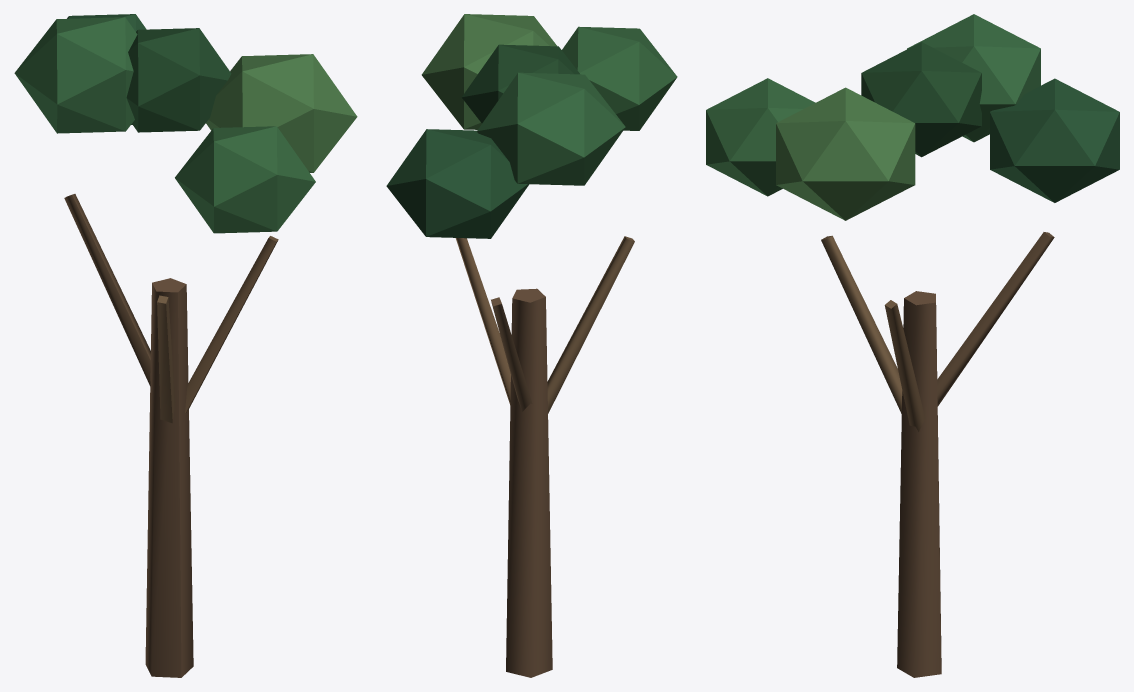
Rendered from broadleaf-round.far.glb.
The picture shows the model from 3 angles, left to right: view 1: azimuth 30°, elevation 25°; view 2: azimuth 150°, elevation 25°; view 3: azimuth 270°, elevation 25°; orthographic projection. The views are drawn at different scales.
Parts seen in each view (by area): view 1: foliage, wood; view 2: foliage, wood; view 3: foliage, wood.
Boxes of the visible parts, left/top/right/bottom form: foliage: left=14, top=14, right=357, bottom=233; wood: left=64, top=194, right=278, bottom=677; foliage: left=386, top=14, right=677, bottom=238; wood: left=455, top=236, right=634, bottom=677; foliage: left=706, top=14, right=1119, bottom=220; wood: left=821, top=232, right=1054, bottom=677.
Bounding box in the file's own units: 4.22 × 11 × 6.72.
